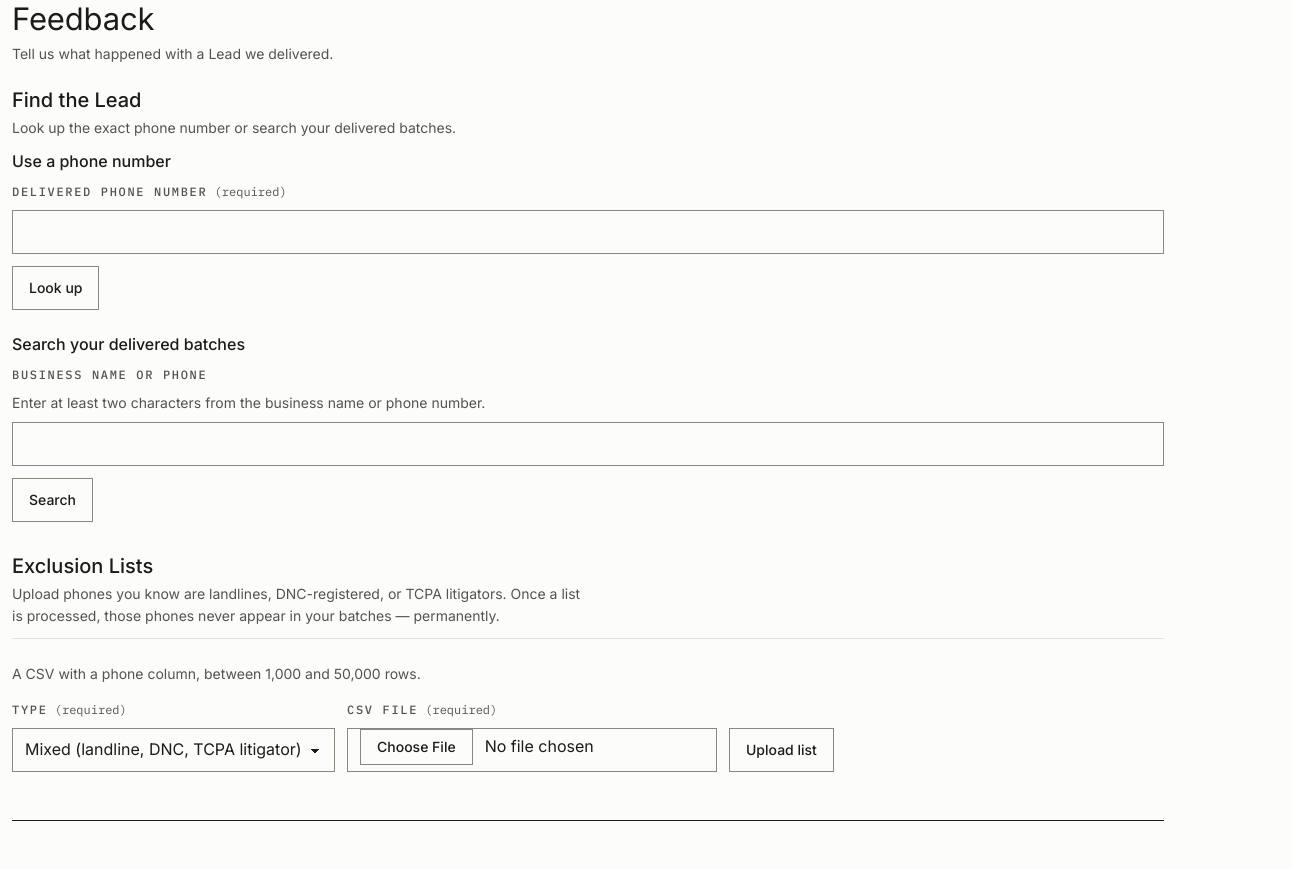
searching delivered batches › finds a Lead by partial name and enters the existing confirmation flow
Type "roof" into the search field labelled "Business name or phone" at [588, 444], box [12,422,1164,466]
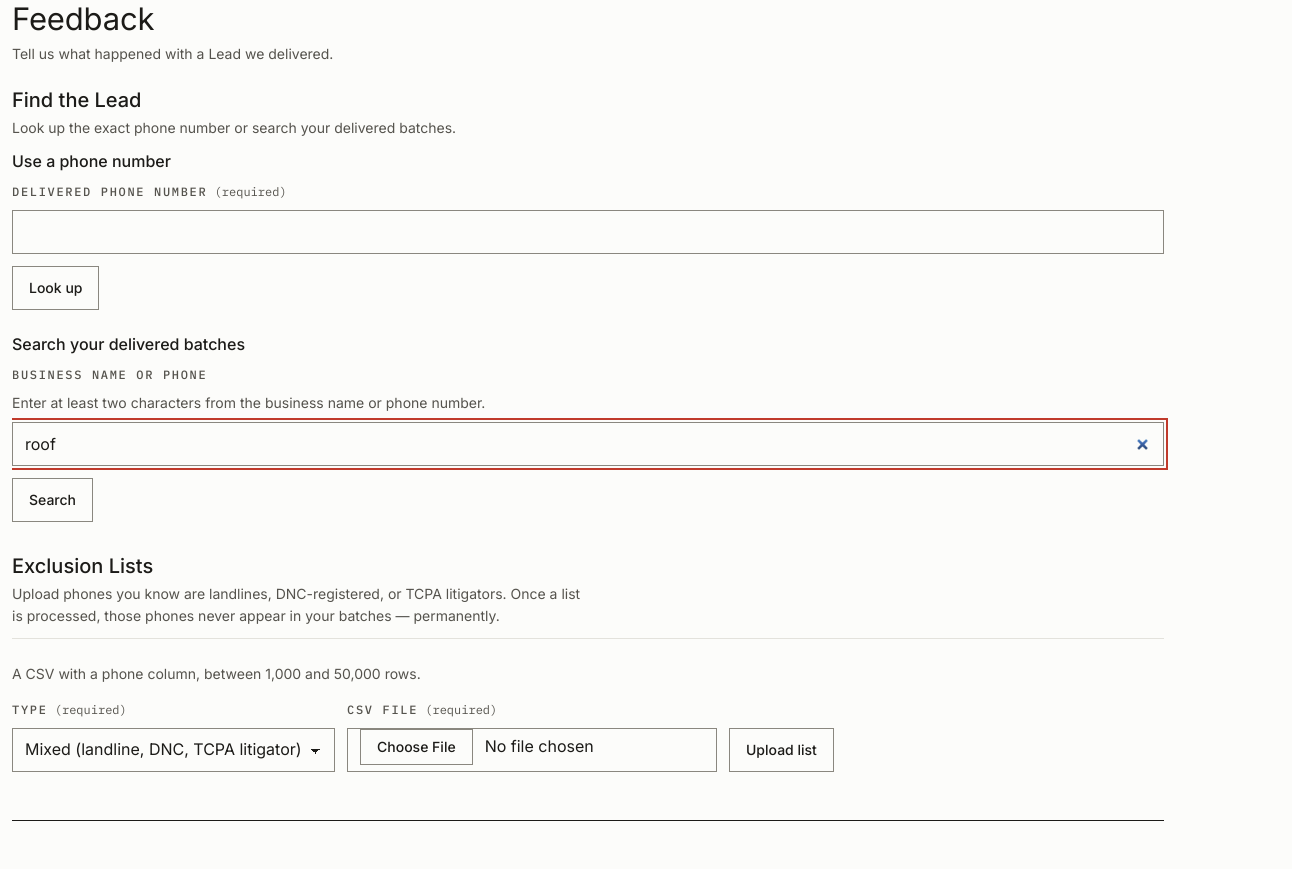
Click the button "Search" at [52, 500], box [12,478,93,522]
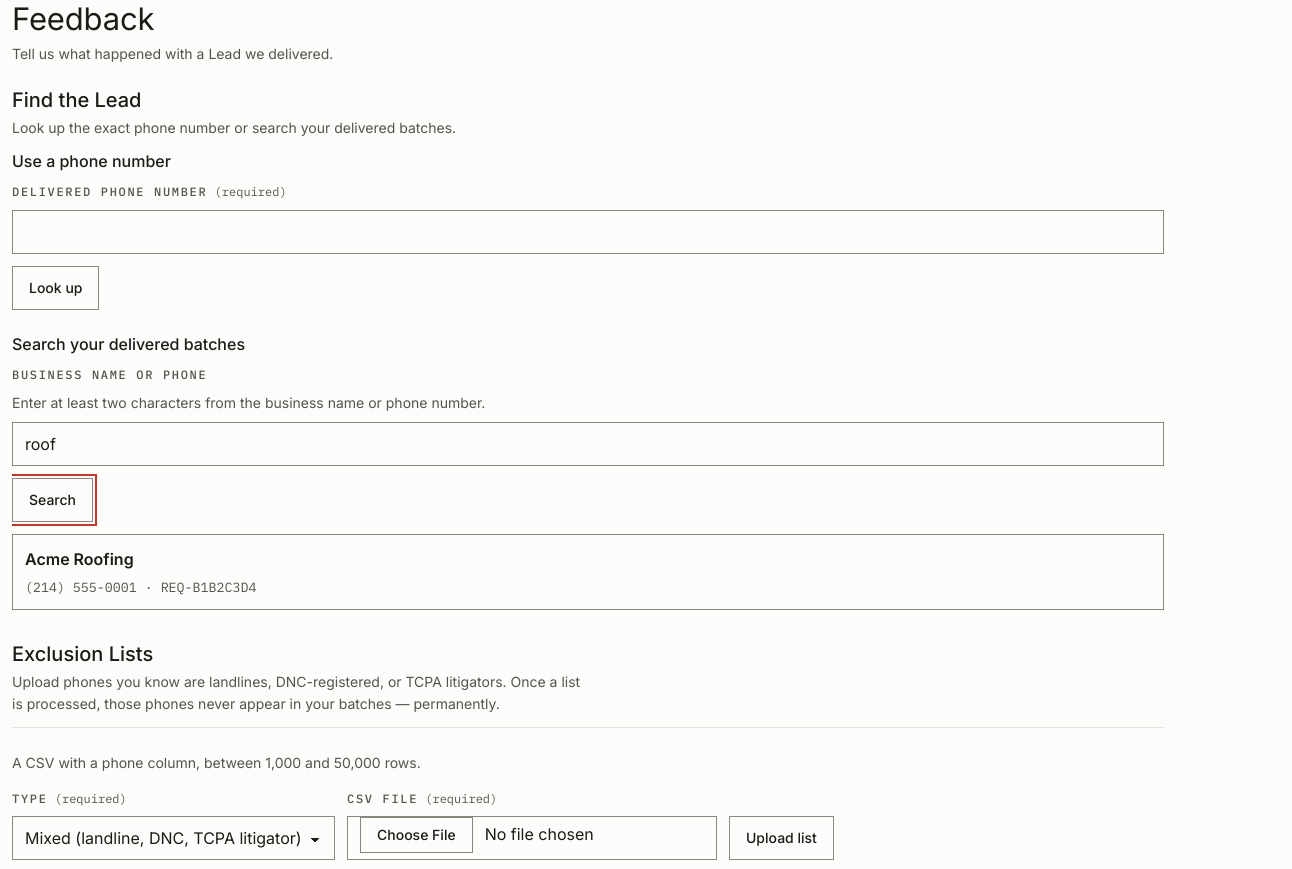
Click the button "Acme Roofing (214) 555-0001 · REQ-B1B2C3D4" at [79, 559], box [12,534,1164,610]
(page scrolled)
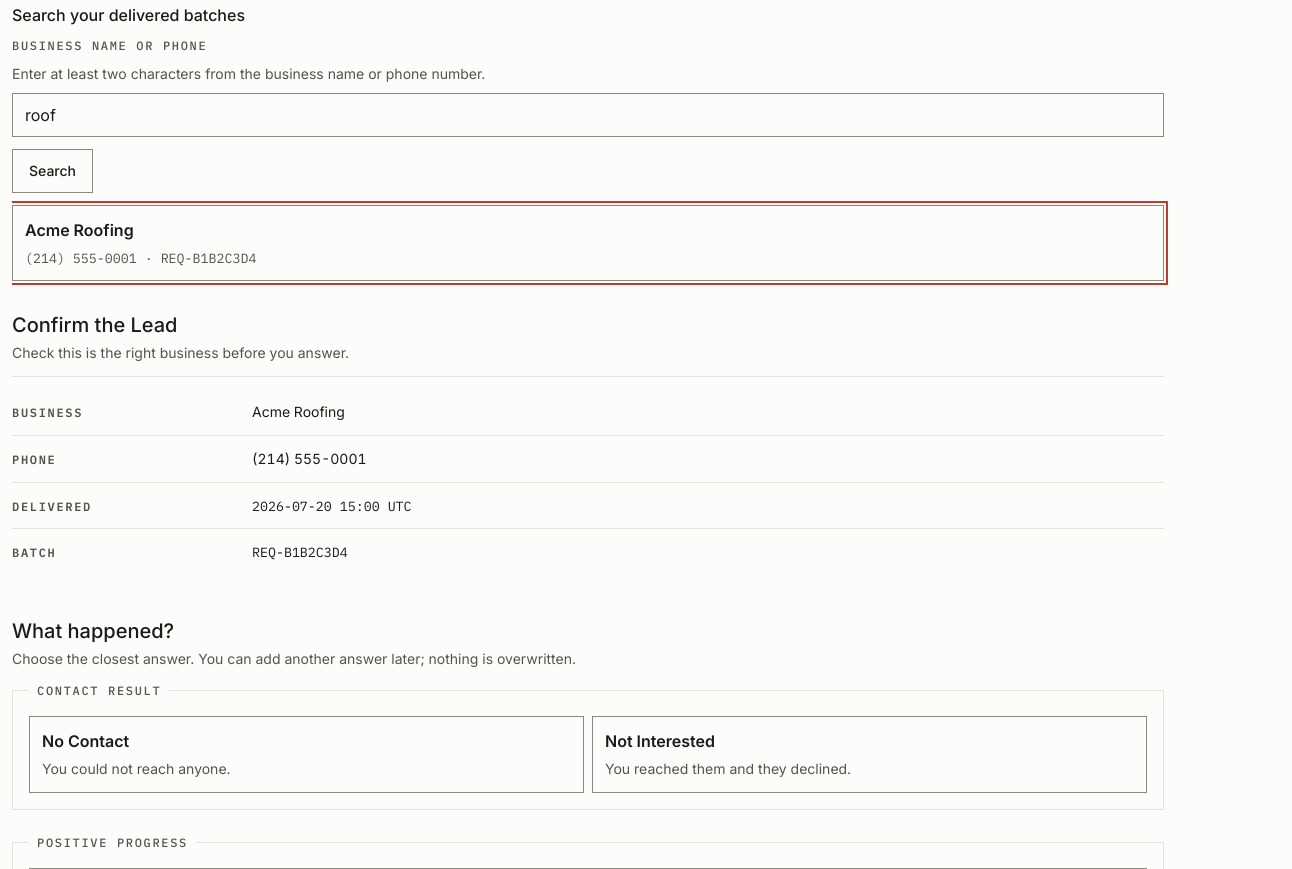
Result: the element "Confirm the Lead" is shown at [12,314,1164,587]
